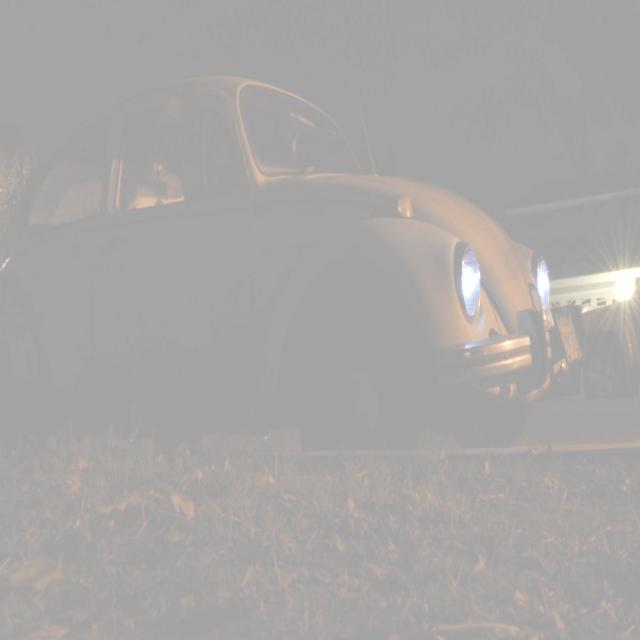Car: (0, 74, 583, 442)
